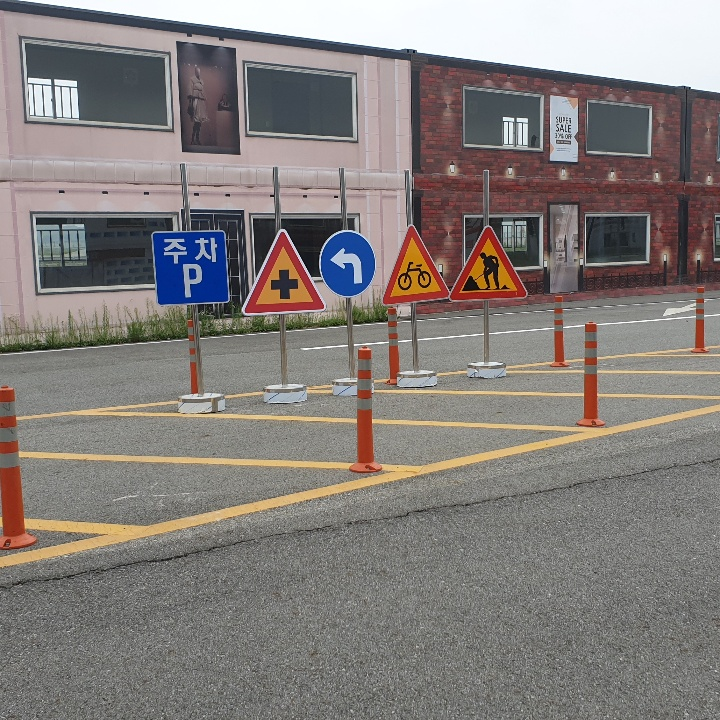bicycle: (382, 224, 451, 302)
const: (462, 246, 515, 292)
inter: (269, 264, 302, 306)
left: (325, 242, 369, 287)
parking: (177, 256, 206, 300)
